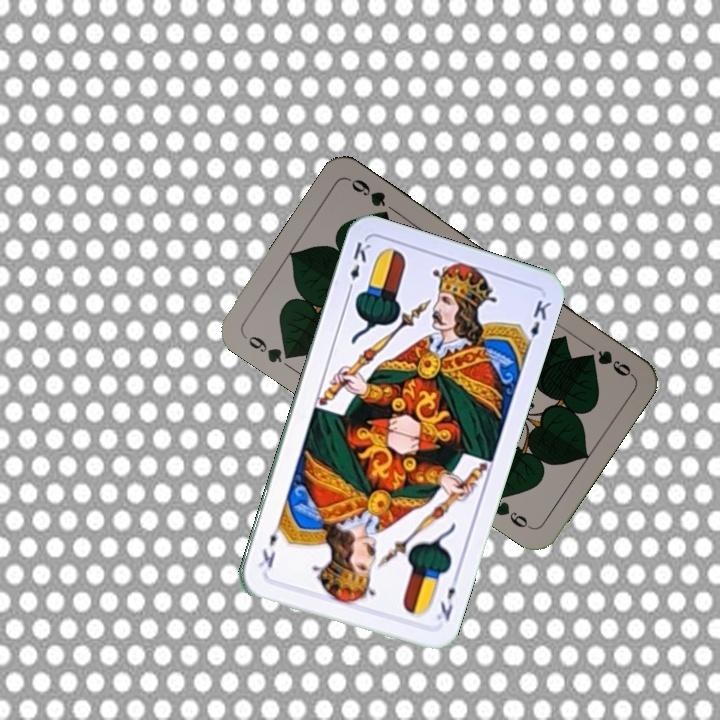EK: (344, 237, 373, 296), (432, 571, 461, 624)
G9: (240, 331, 298, 366), (583, 340, 635, 379)
